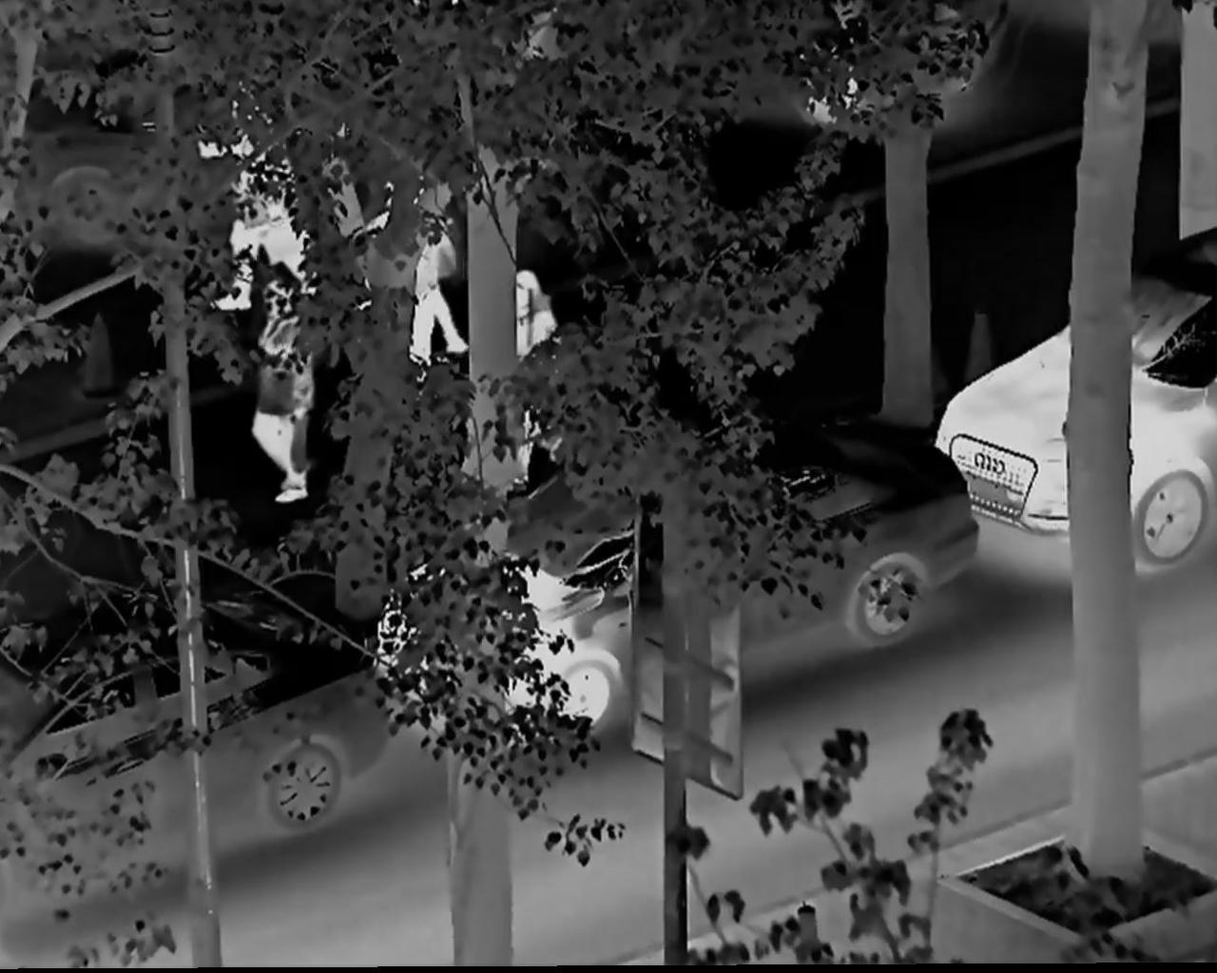person: (495, 267, 577, 491), (242, 275, 319, 507)
